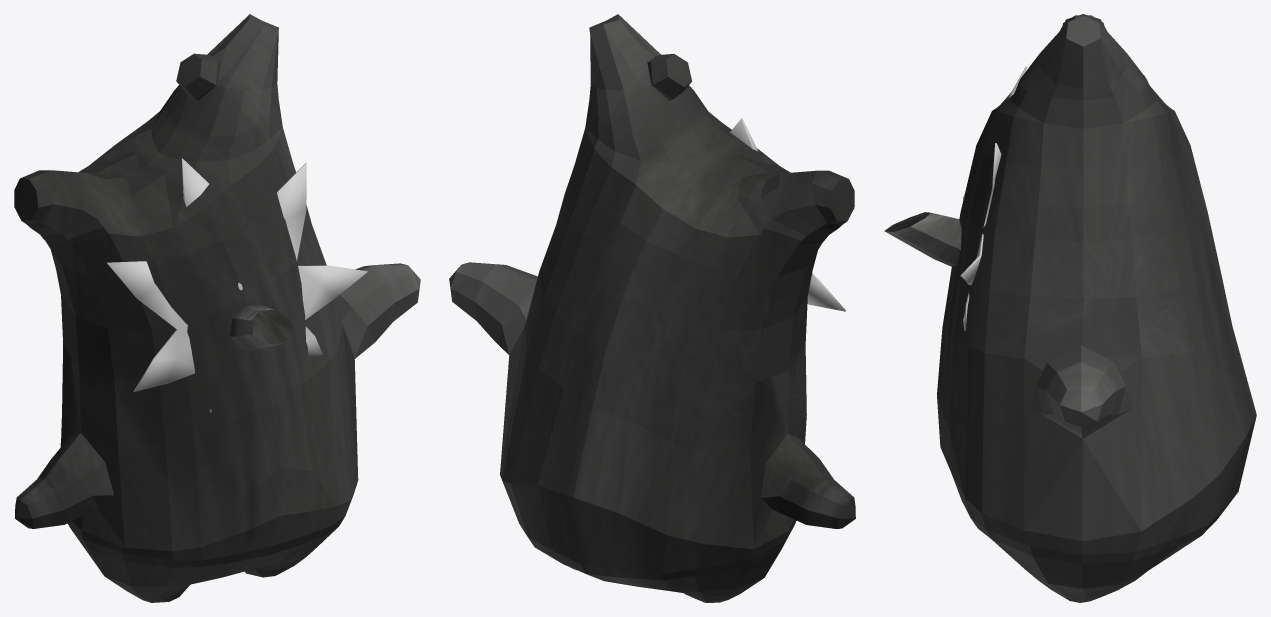
File: frame_0031.obj
3 renders of one model, left to right at view 1: azimuth 30°, elevation 25°; view 2: azimuth 150°, elevation 25°; view 3: azimuth 270°, elevation 25°, orthographic. The views are drawn at different scales.
Parts seen in each view (by area): view 1: korok, leaf, nose; view 2: korok, leaf; view 3: korok, nose, leaf.
Boxes of the visible parts, left/top/right/bottom form: korok: left=14, top=14, right=420, bottom=602; leaf: left=106, top=158, right=367, bottom=413; nose: left=229, top=305, right=294, bottom=349; korok: left=449, top=14, right=855, bottom=602; leaf: left=730, top=118, right=845, bottom=311; korok: left=937, top=14, right=1256, bottom=602; nose: left=884, top=212, right=961, bottom=266; leaf: left=960, top=66, right=1027, bottom=330.
Bounding box in the file's own units: 1.76 × 2.32 × 1.36.
